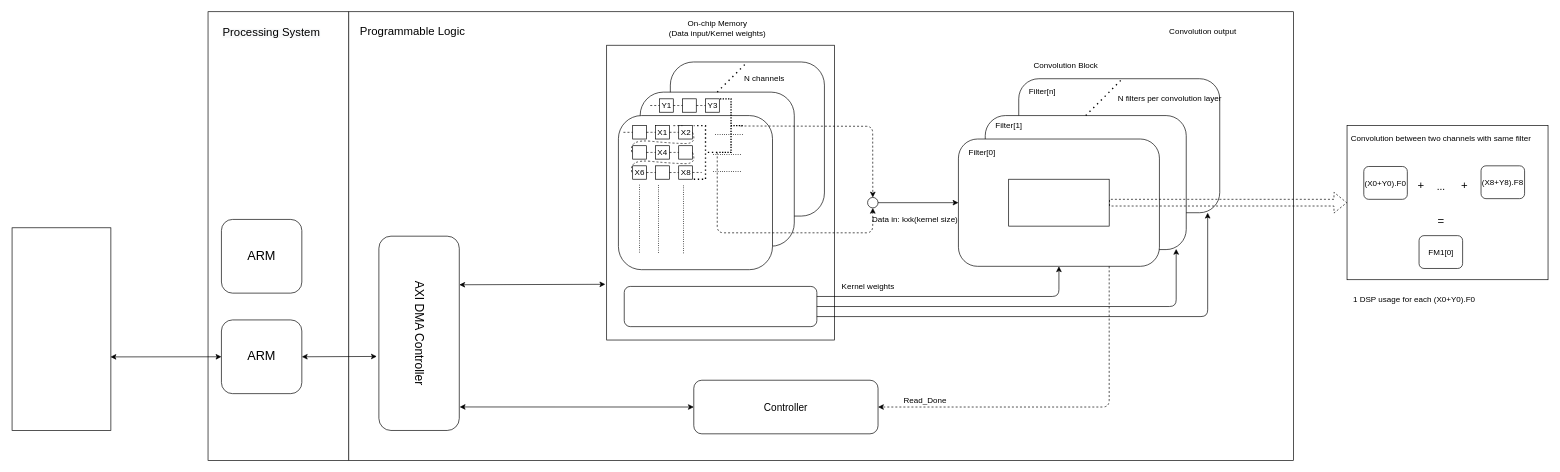
Some shapes in this 1560 by 472 pixel diagram are drawn without their labels. The shapes that lost their labels are listed below. From the top down, each one's box as (x1, y1, x2, y2) in pixels, then its label:
(682, 98, 696, 112): Y2
(632, 125, 646, 139): X0
(632, 145, 646, 159): X3
(678, 145, 693, 159): X5
(655, 165, 669, 179): X7
(1008, 179, 1109, 226): Processing Element
(624, 286, 817, 327): Weights
(11, 227, 111, 430): Off-chip Memory
